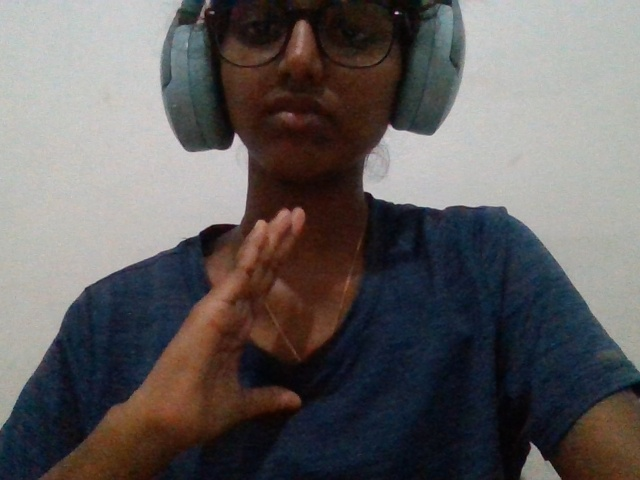Fine: (87, 183, 353, 458)
